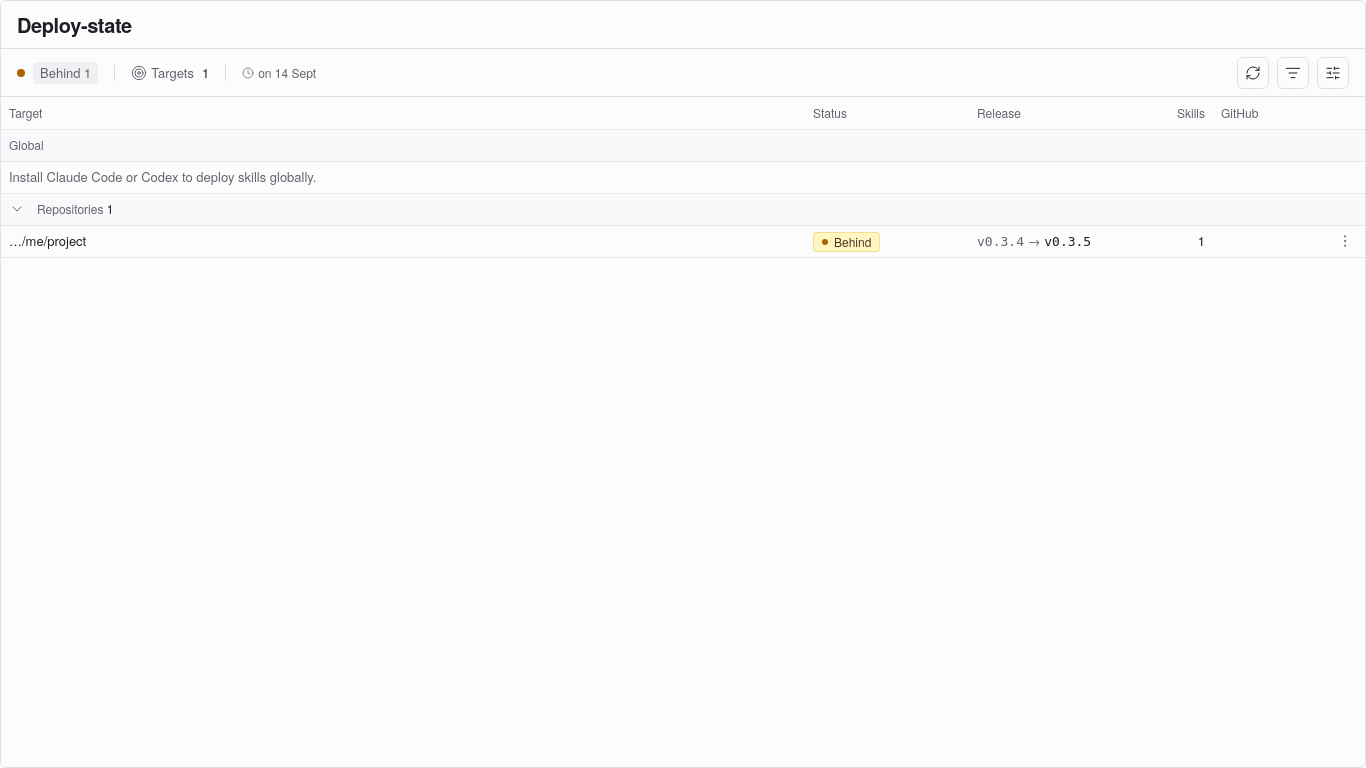
Test: Deploy-state — Update target on a repository › opens Update target straight from the row's menu
Click the button named "Actions for …/me/project": (1345, 240) x1=1333 y1=228 x2=1357 y2=252
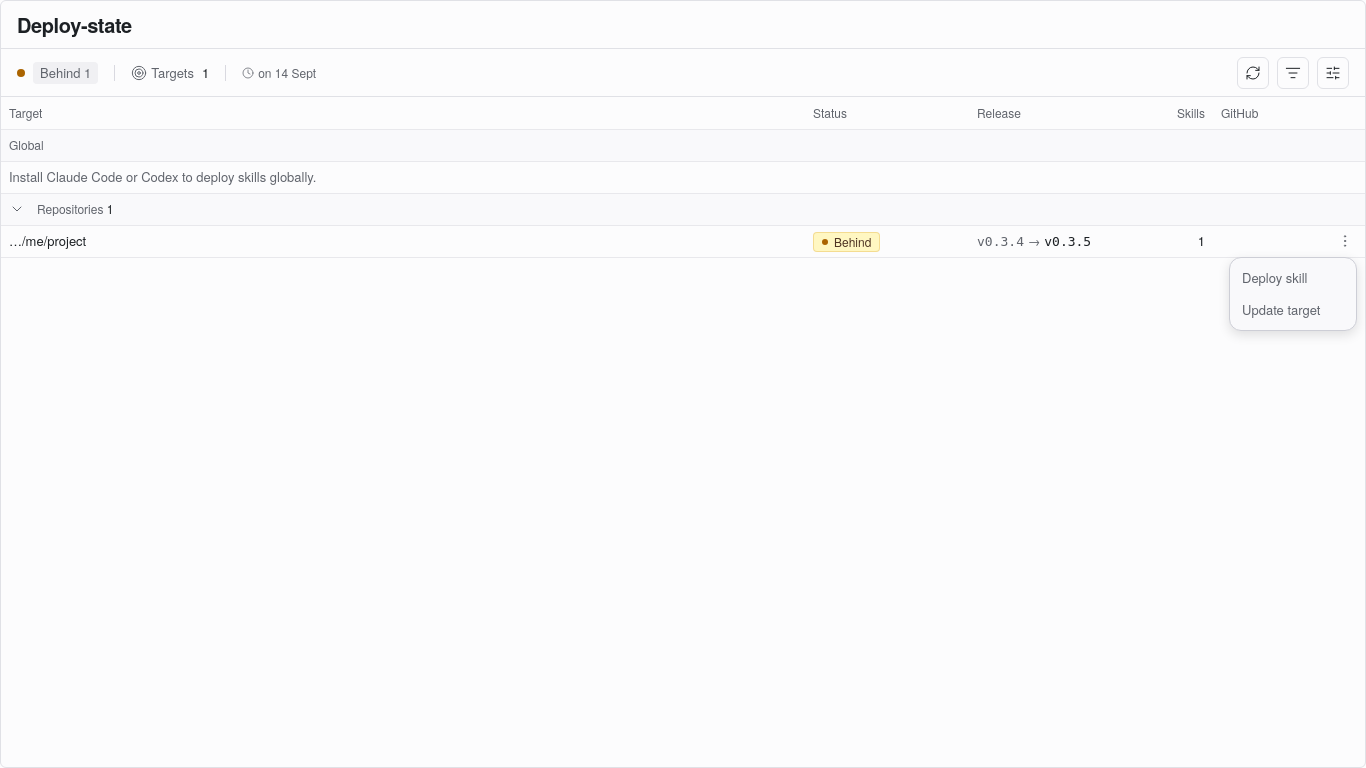
Click the menu item "Update target": (1281, 310) x1=1242 y1=300 x2=1320 y2=319
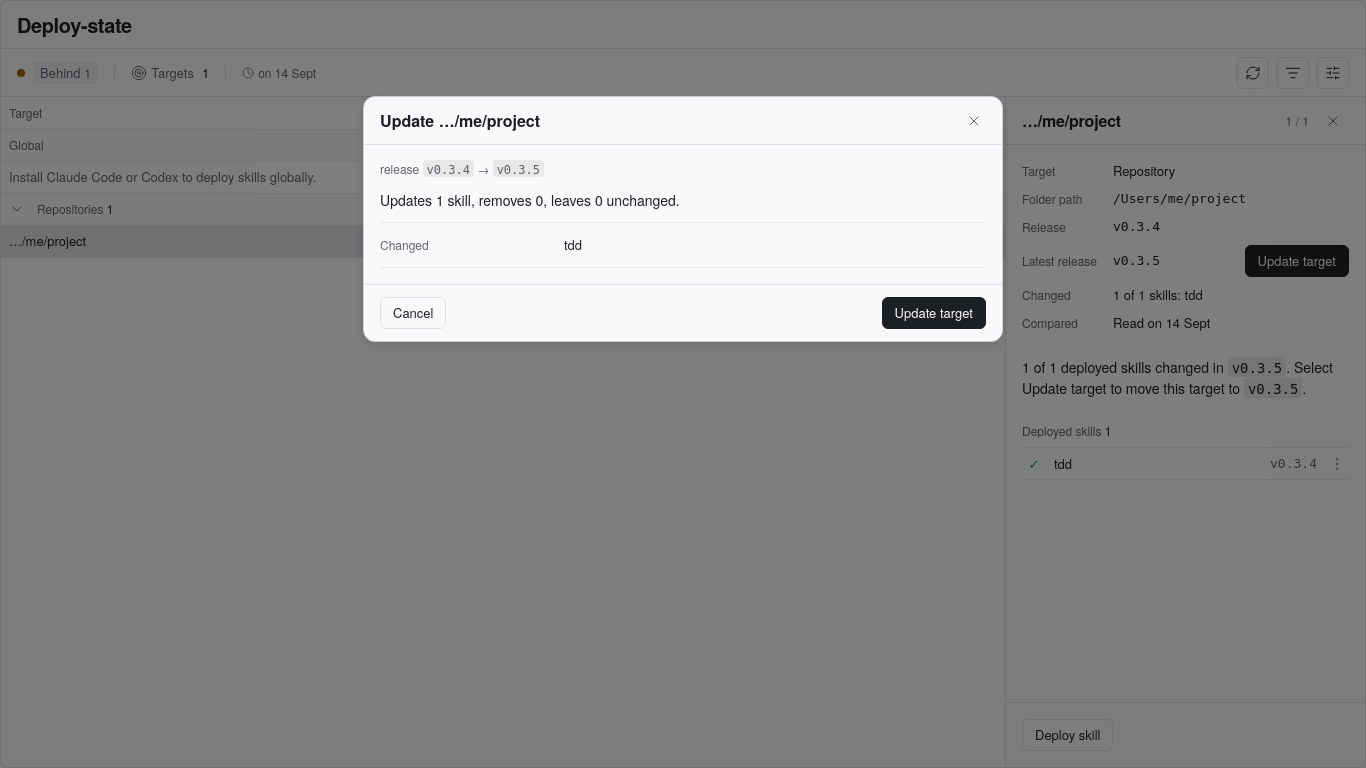
Now the dialog "Update …/me/project" is shown, box x1=363 y1=96 x2=1003 y2=342
